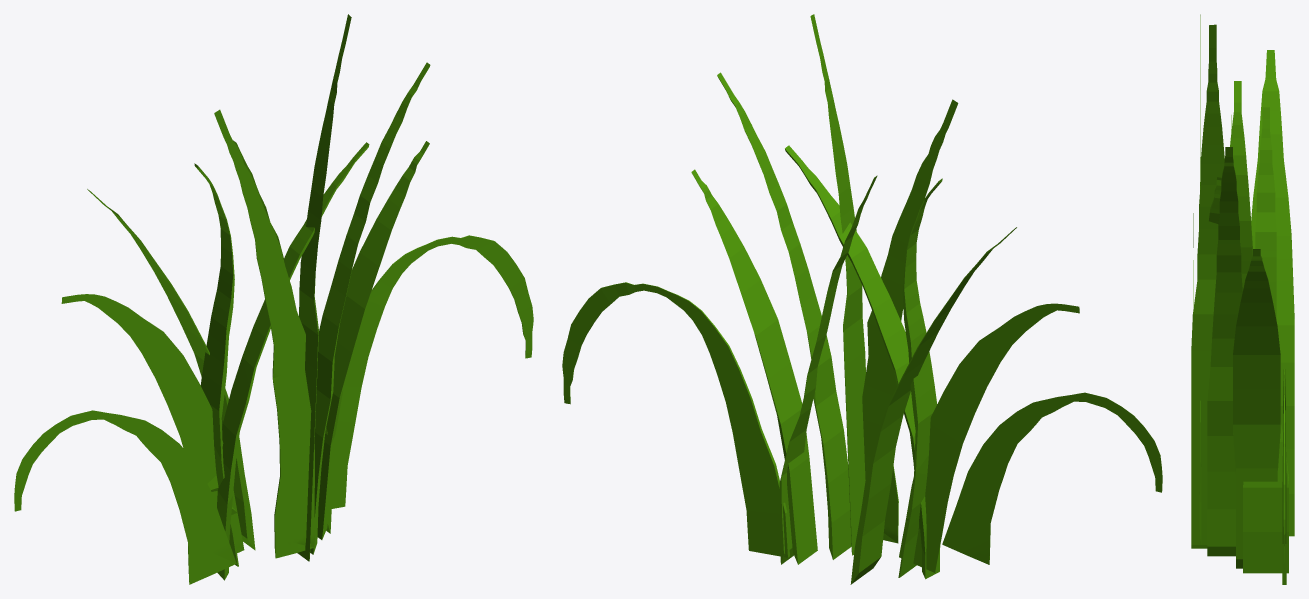
Rendered from grasslast.glb.
3 views of the same model, side by side, from view 1: azimuth 30°, elevation 25°; view 2: azimuth 150°, elevation 25°; view 3: azimuth 270°, elevation 25° (orthographic). The views are drawn at different scales.
Parts seen in each view (by area): view 1: Object_4, Object_5, Object_3, Object_6; view 2: Object_5, Object_4, Object_3, Object_6; view 3: Object_6, Object_5, Object_4, Object_3.
Boxes of the visible parts, x1,y1,x2,y2 form: Object_4: [14, 62, 519, 580]; Object_5: [88, 15, 533, 557]; Object_3: [14, 142, 368, 584]; Object_6: [14, 14, 525, 561]; Object_5: [562, 17, 1016, 584]; Object_4: [576, 72, 1161, 572]; Object_3: [785, 145, 1162, 584]; Object_6: [570, 14, 1162, 583]; Object_6: [1191, 16, 1294, 573]; Object_5: [1195, 24, 1294, 584]; Object_4: [1193, 14, 1291, 556]; Object_3: [1193, 50, 1294, 325].
Size of the model in its own units: 88.12 by 79.75 by 13.43.
